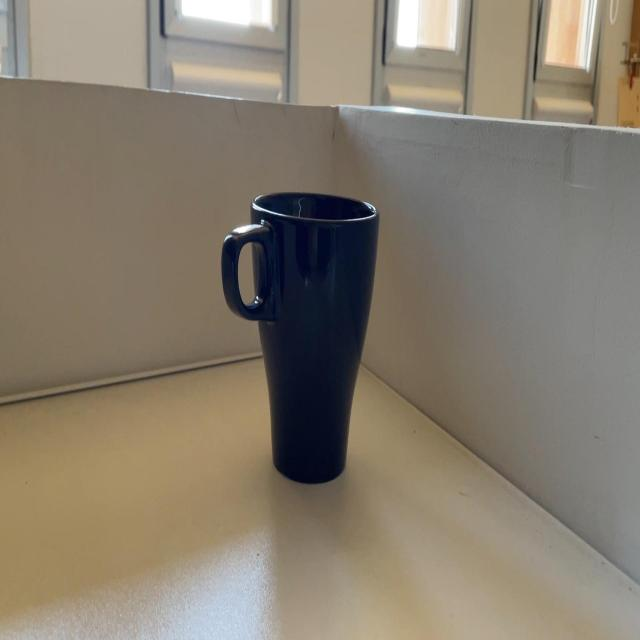cup: (217, 193, 386, 482)
